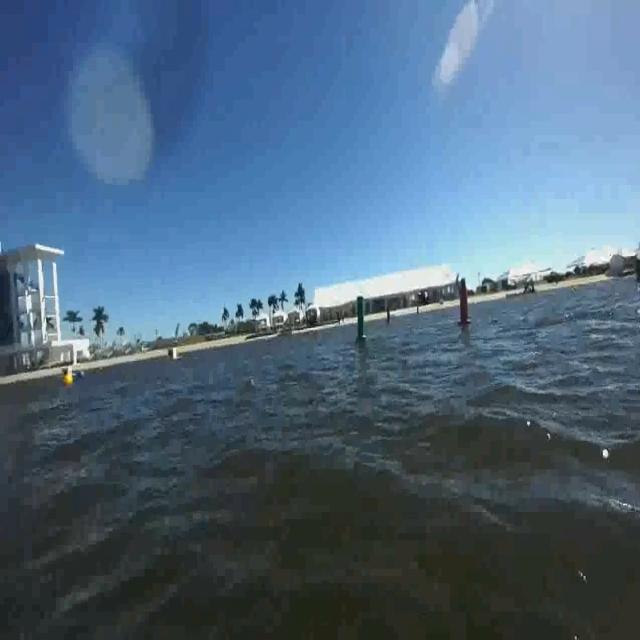green-column-buoy: (353, 294, 368, 343)
red-column-buoy: (456, 278, 472, 327)
yellow-duck: (64, 372, 74, 389)
